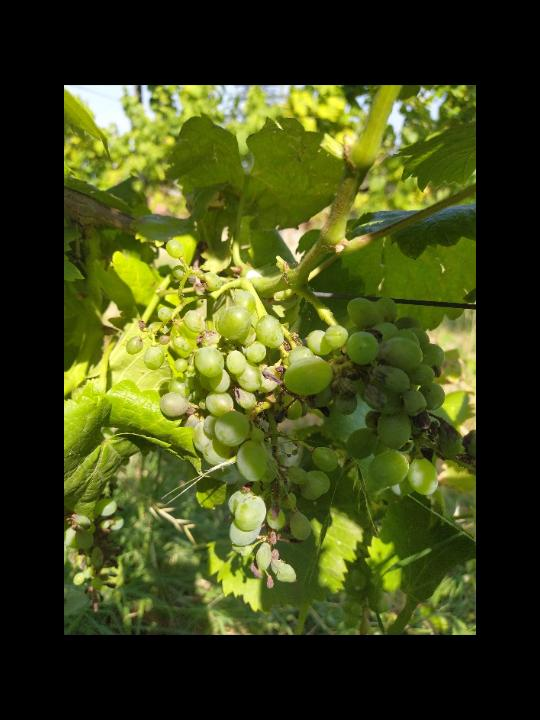grape: (123, 239, 449, 589)
